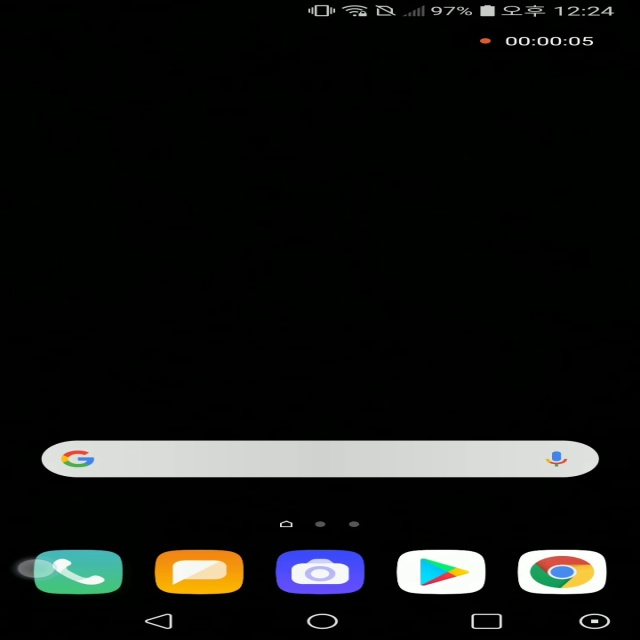Cursor: (16, 558, 60, 580)
